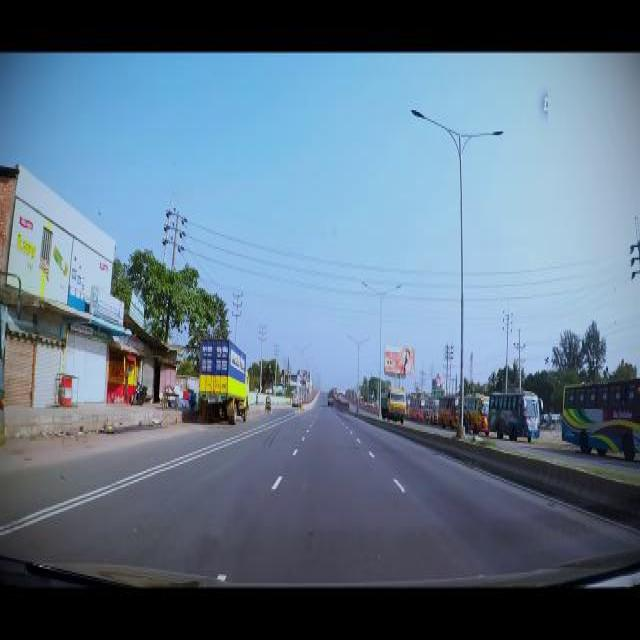bus: (560, 377, 638, 459), (486, 388, 540, 436), (462, 392, 488, 429), (438, 394, 458, 426), (423, 398, 437, 420), (408, 396, 422, 418)
motorbike: (130, 380, 148, 402)
pickup: (198, 336, 248, 421)
rickshaw: (263, 394, 271, 413)
truck: (379, 386, 405, 421)
